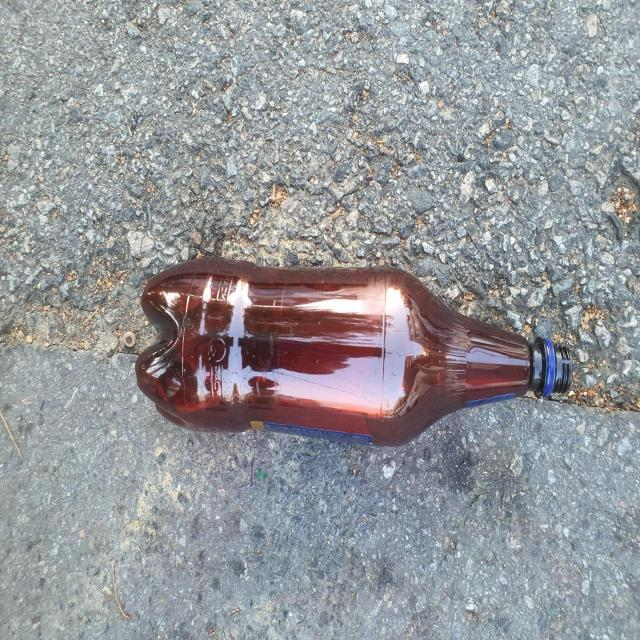plastic: (135, 258, 574, 446)
